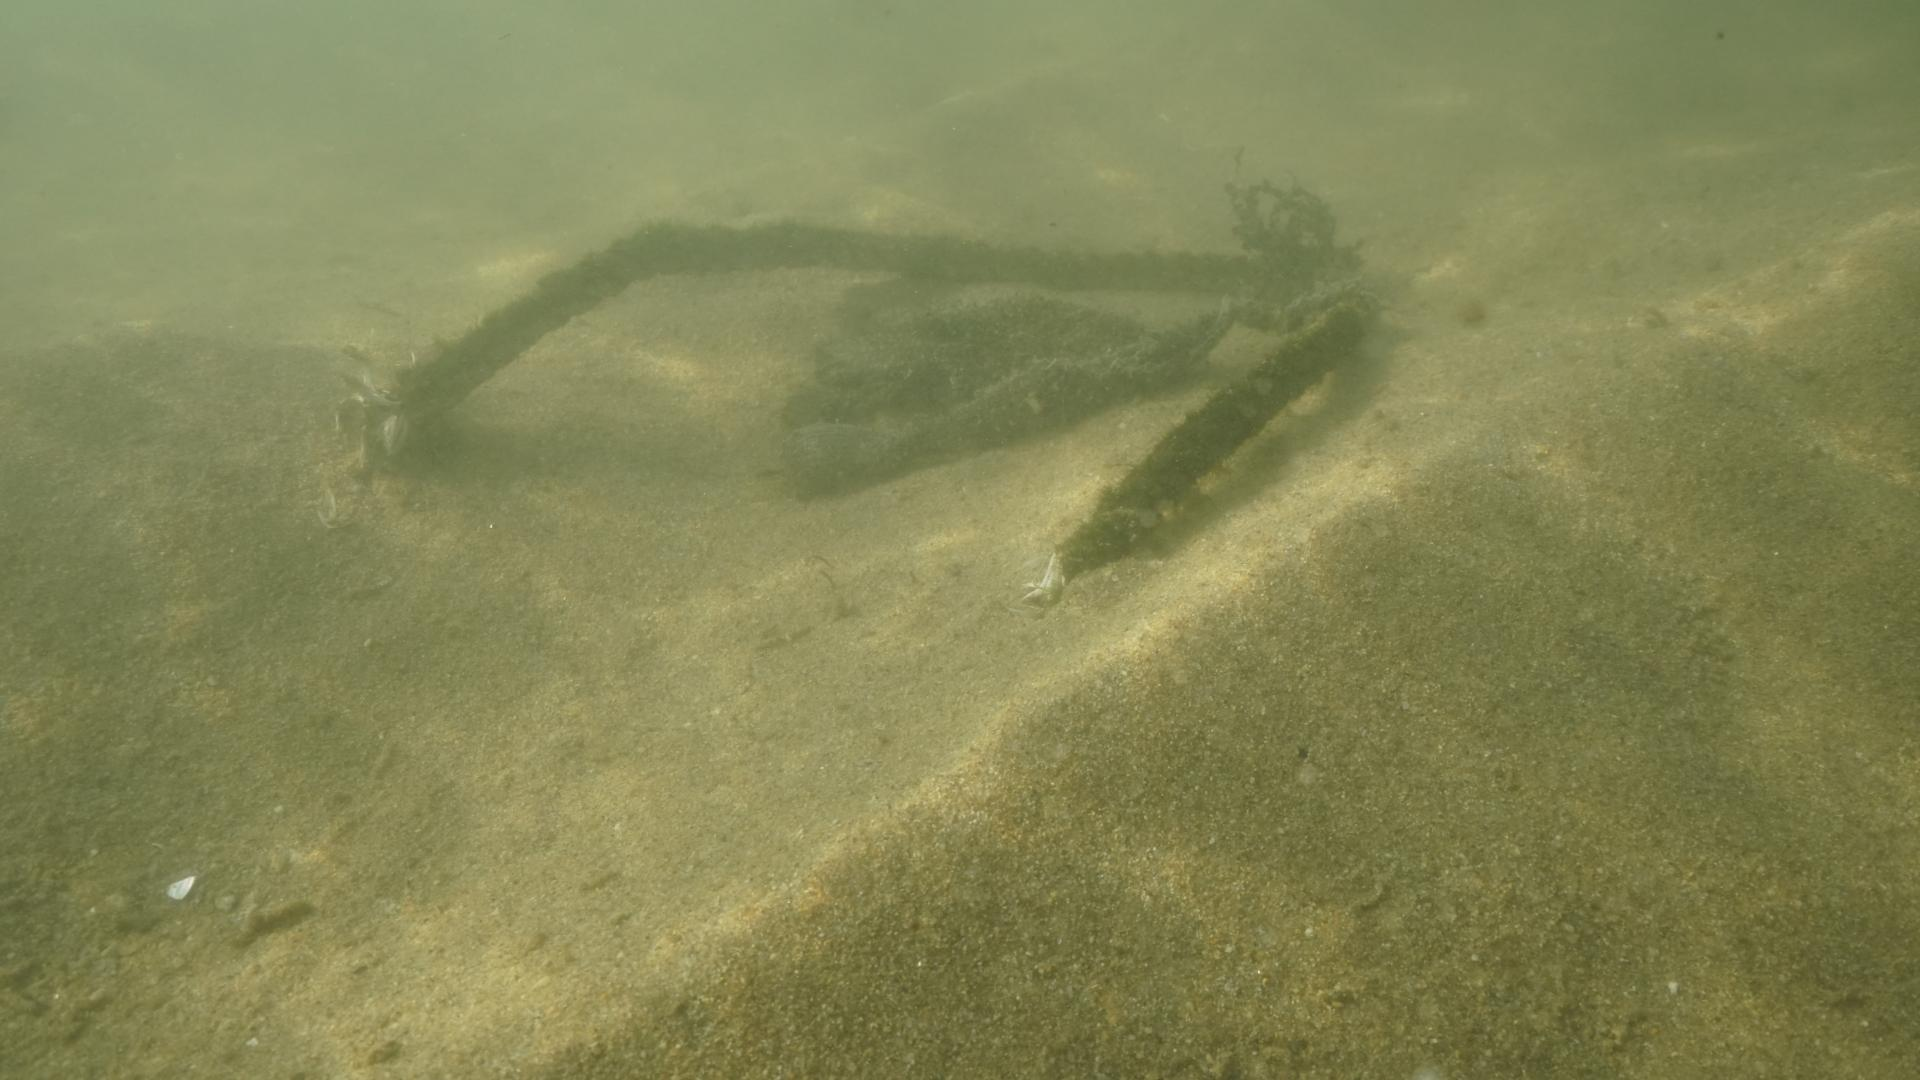rope: (344, 218, 1386, 571)
